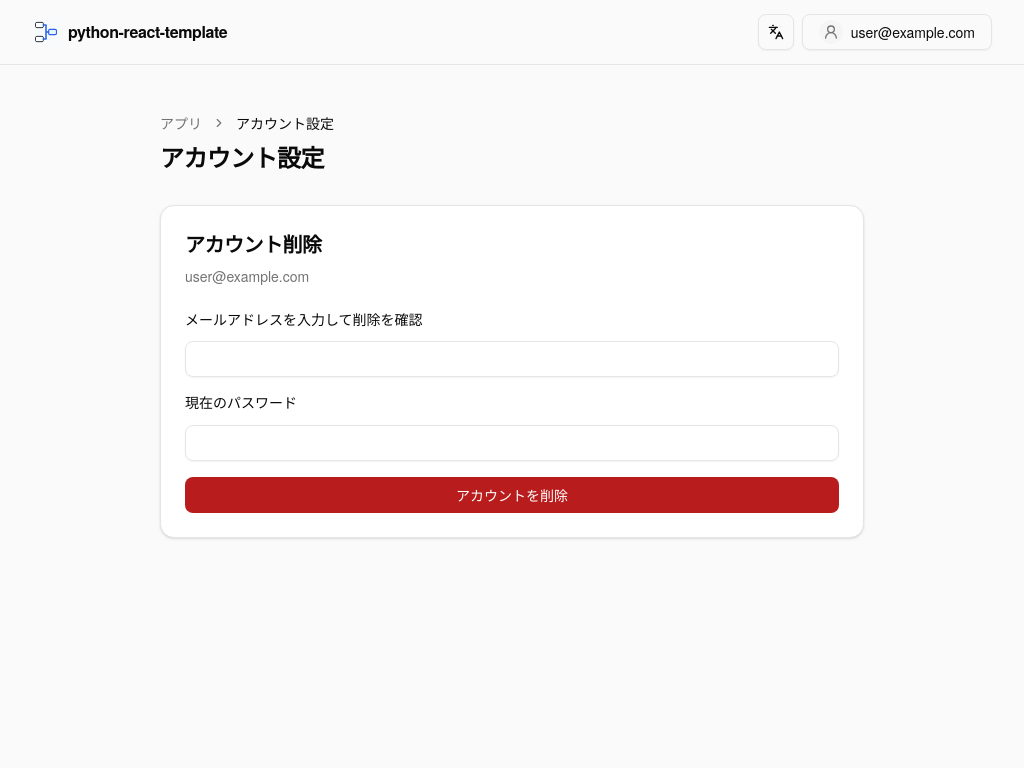
Test case: /app/settings は account deletion API error 400 account_deletion_invalid_password を表示する
expect the heading "アカウント削除" is shown: met, box [185,229,322,258]
Click the button "アカウントを削除" at point(512, 494), box [185,476,839,512]
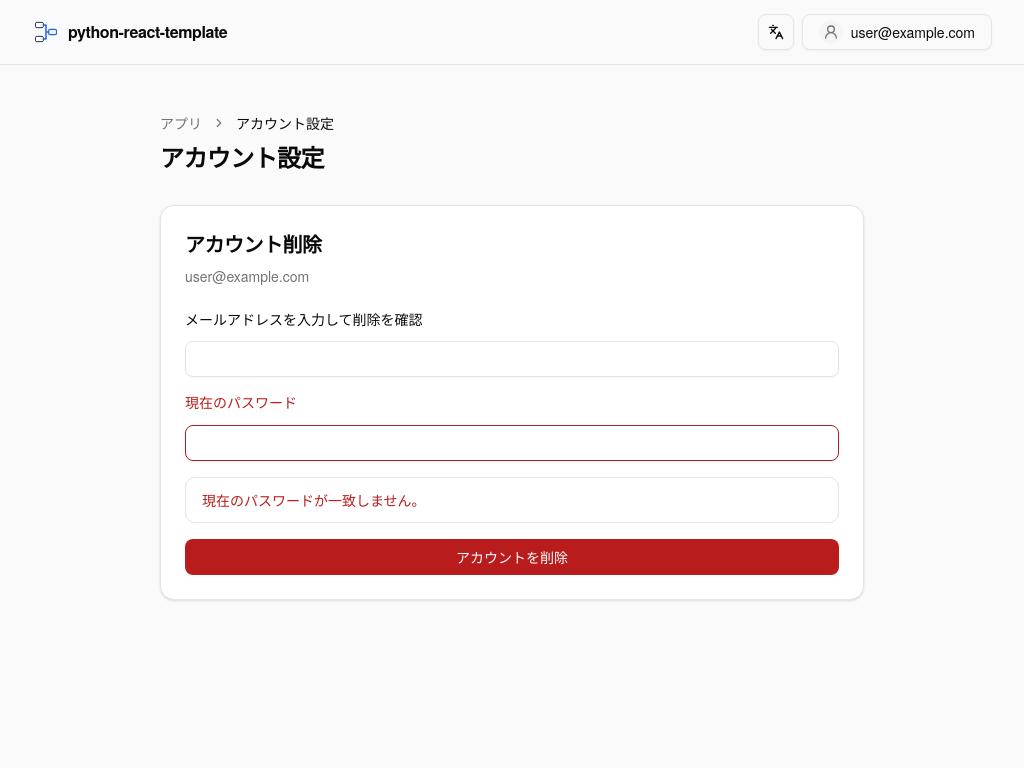
expect the message reads "現在のパスワードが一致しません。": met, box [202,490,426,510]
